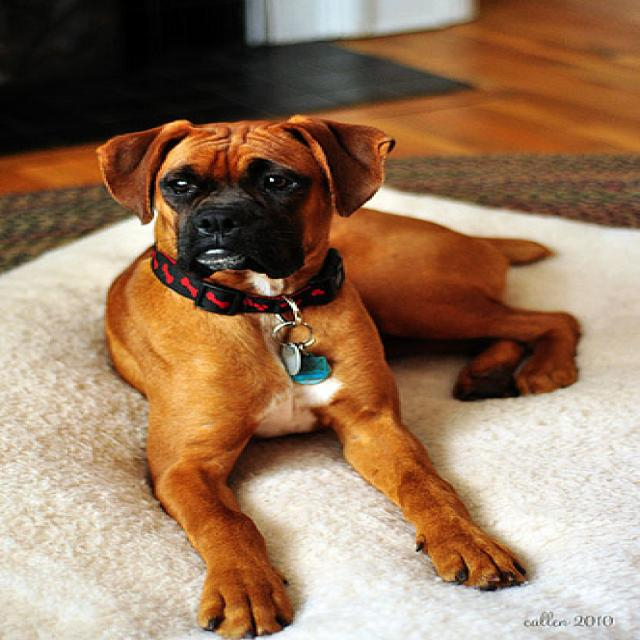dog-boxer: (79, 106, 601, 637)
